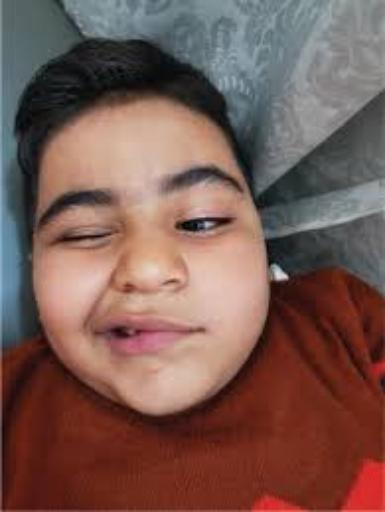left_eye: (176, 215, 240, 240)
left_lip_corner: (192, 321, 216, 341)
right_eye: (50, 228, 118, 251)
right_lip_corner: (90, 324, 108, 345)
